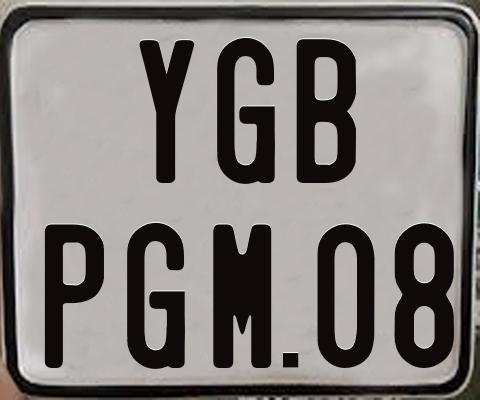0: (315, 223, 379, 373)
8: (391, 221, 452, 371)
B: (296, 38, 356, 183)
G: (217, 36, 279, 183), (124, 221, 183, 367)
M: (213, 221, 272, 369)
P: (42, 221, 106, 367)
Y: (139, 39, 198, 187)
